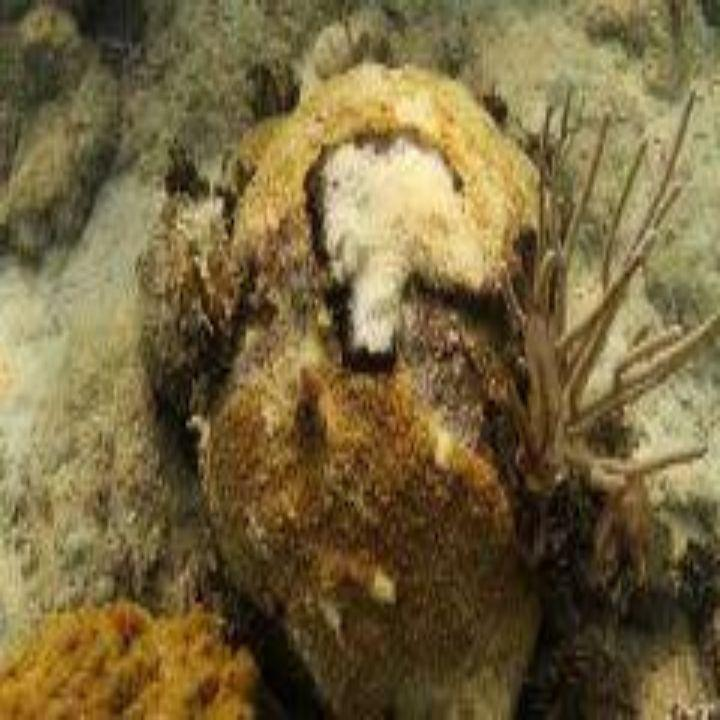Band disease: (230, 120, 503, 362)
